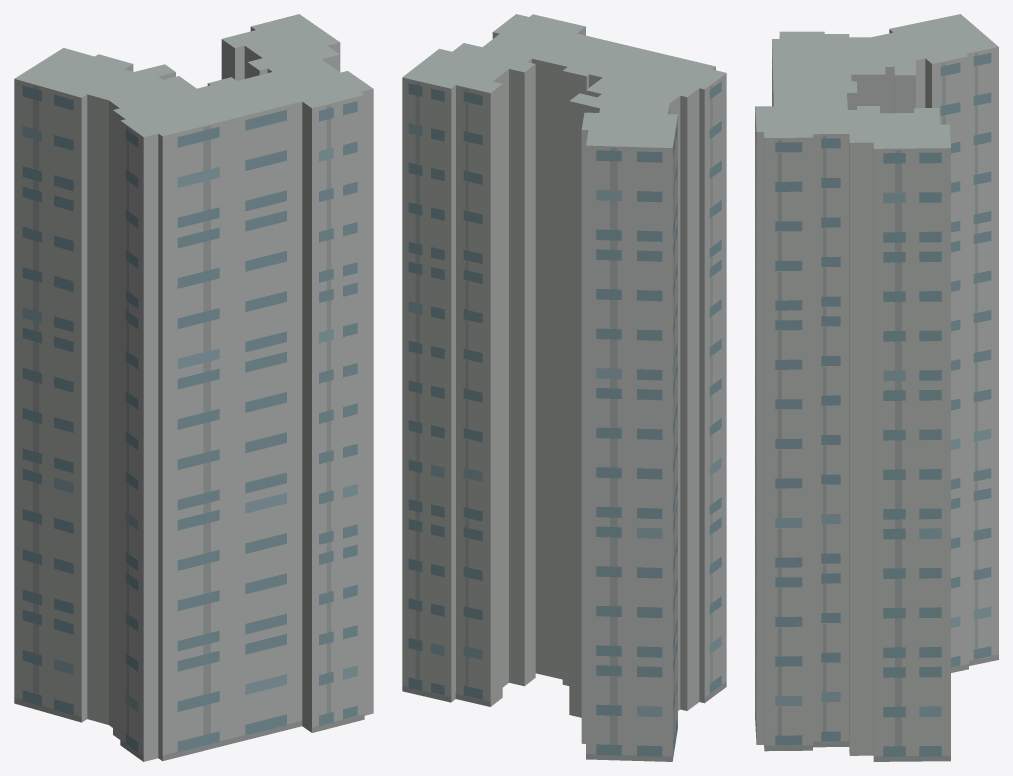
Rendered from residential-d6753457-4528-4be6-8f86-056d37d40c31.glb.
The picture shows the model from 3 angles, left to right: view 1: azimuth 30°, elevation 25°; view 2: azimuth 150°, elevation 25°; view 3: azimuth 270°, elevation 25°; orthographic projection.
Visible parts, largest first — view 1: residential-d6753457-4528-4be6-8f86-056d37d40c31.tmp; view 2: residential-d6753457-4528-4be6-8f86-056d37d40c31.tmp; view 3: residential-d6753457-4528-4be6-8f86-056d37d40c31.tmp.
Boxes of the visible parts, x1,y1,x2,y2 form: residential-d6753457-4528-4be6-8f86-056d37d40c31.tmp: (14,14,373,761); residential-d6753457-4528-4be6-8f86-056d37d40c31.tmp: (402,14,726,761); residential-d6753457-4528-4be6-8f86-056d37d40c31.tmp: (755,14,998,761).
Bounding box in the file's own units: 42.96 × 91 × 32.79.
